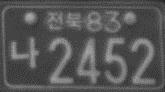2: (48, 37, 75, 85), (130, 37, 156, 85)
3: (104, 9, 121, 33)
4: (75, 37, 99, 86)
5: (103, 36, 128, 83)
8: (85, 11, 103, 34)
나: (10, 35, 39, 69)
전북_O: (47, 10, 83, 32)
